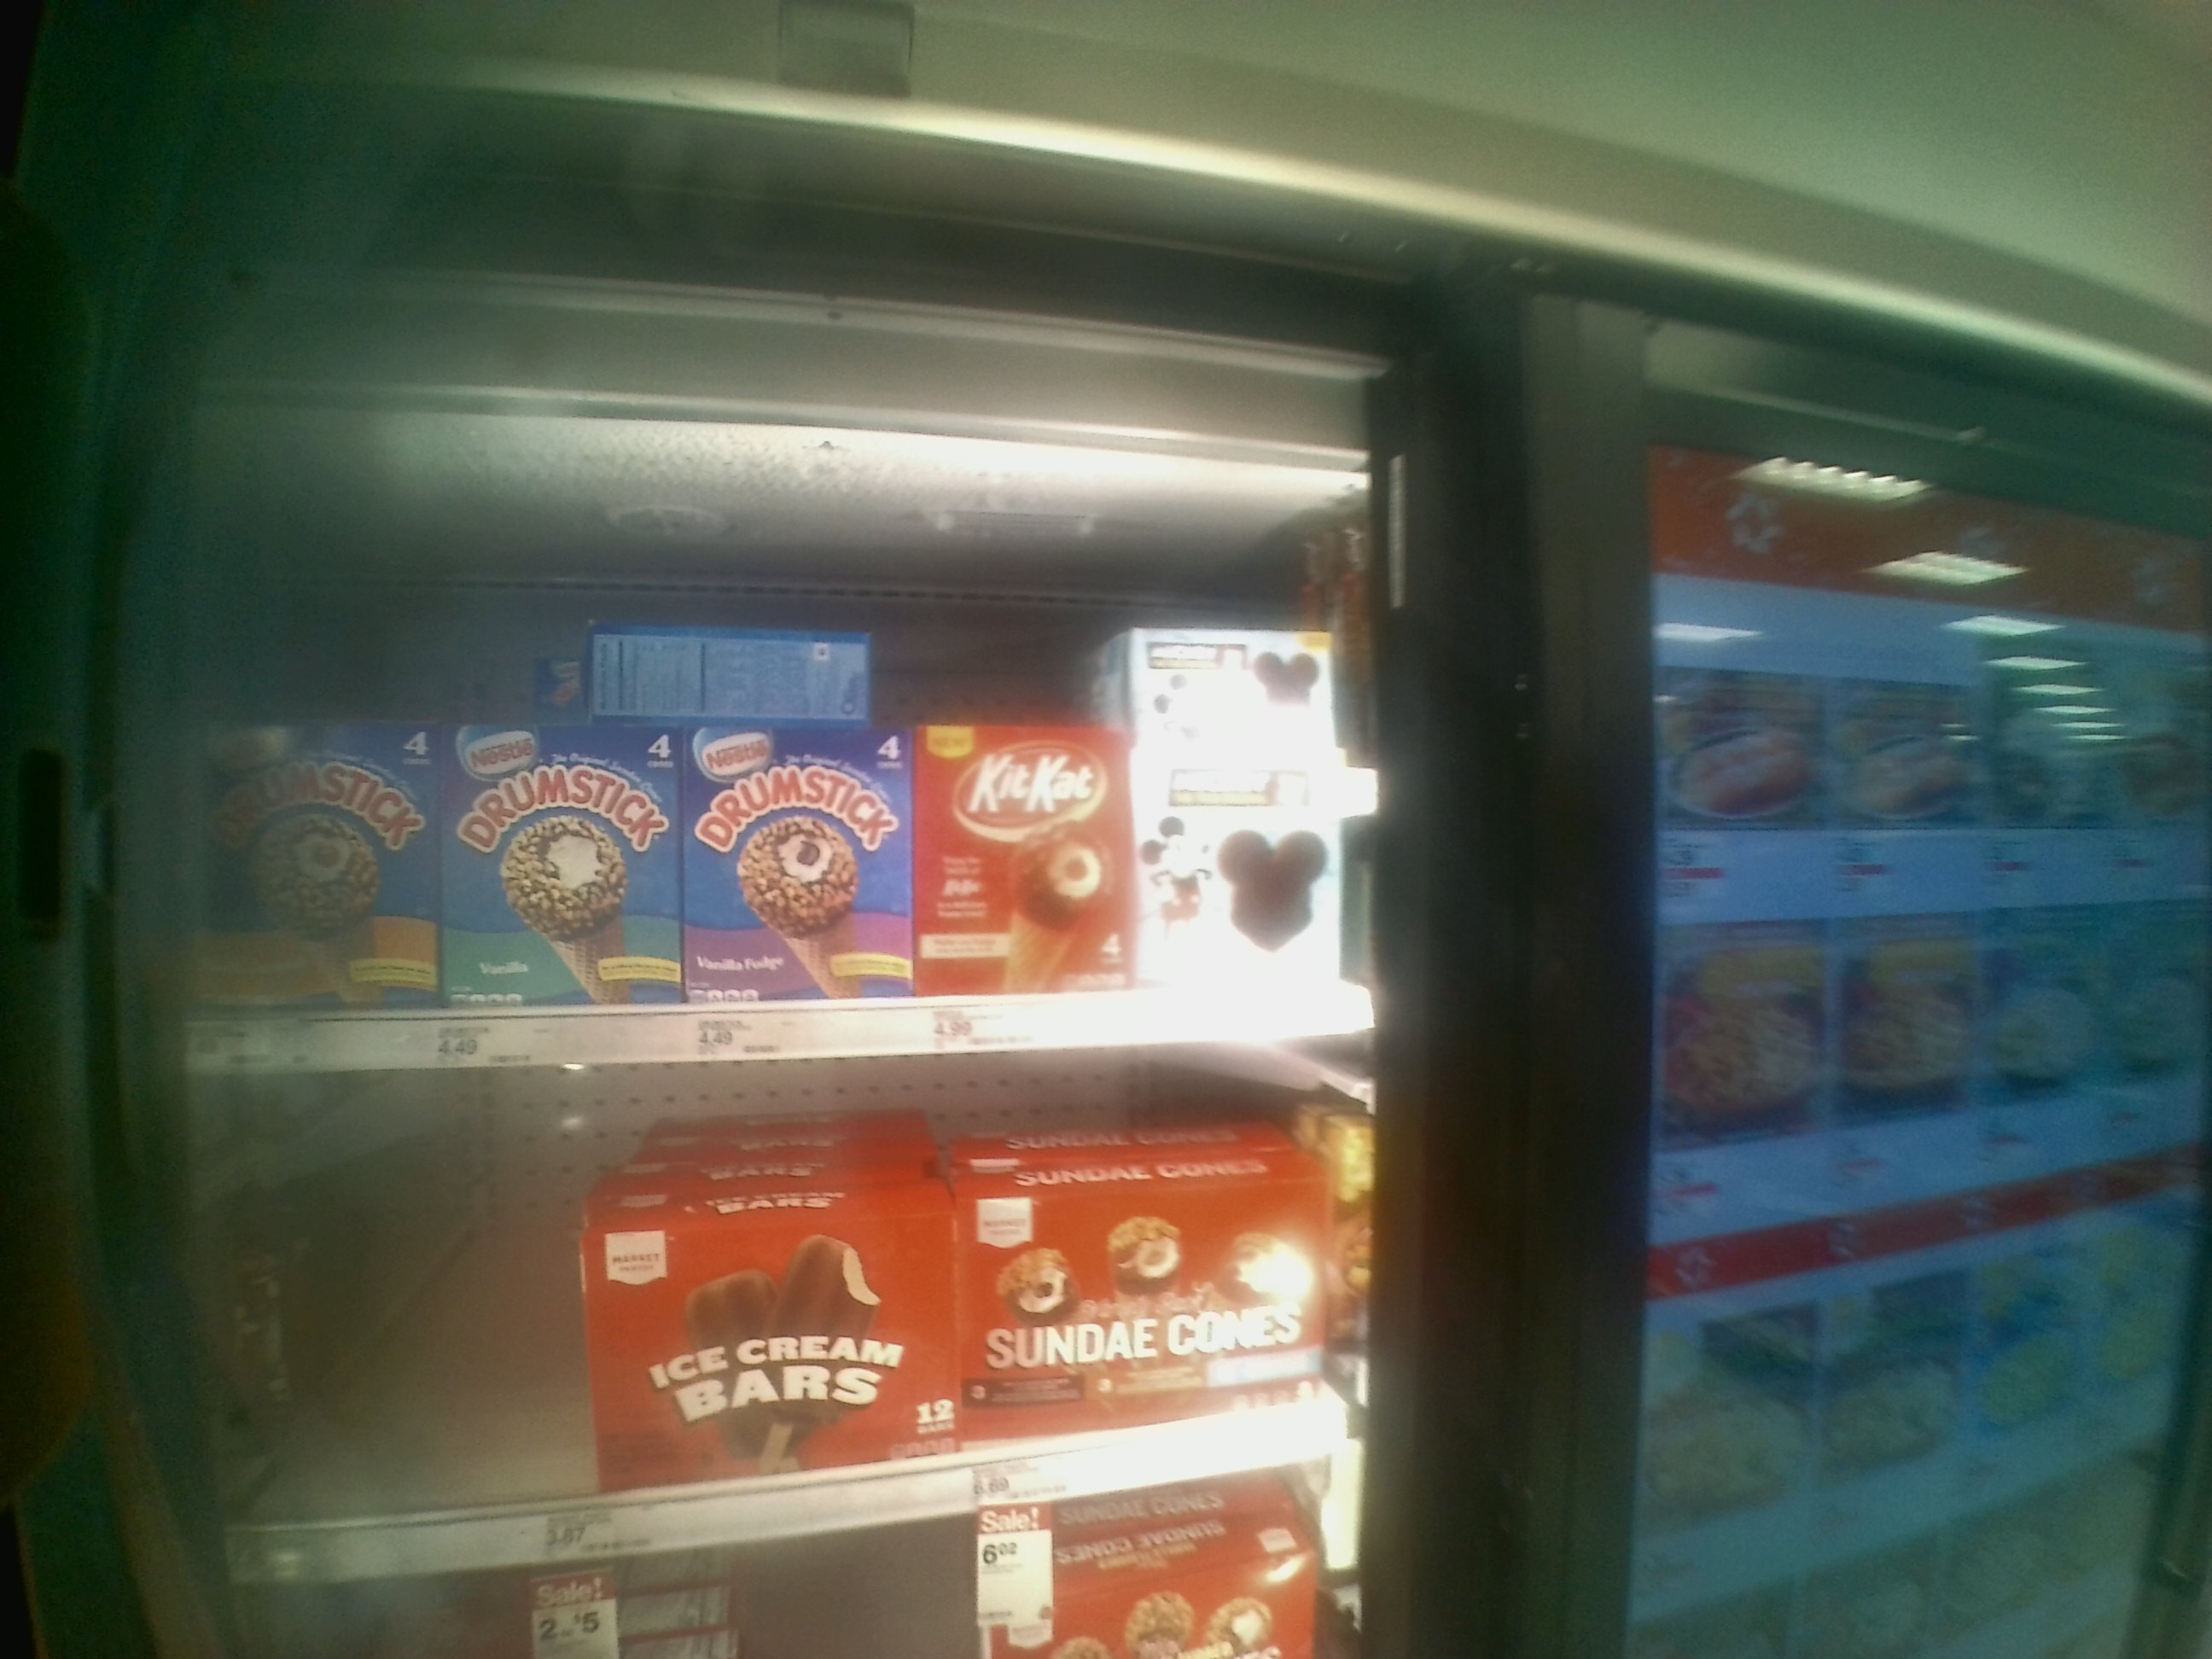frozen-food-shelf: (172, 591, 1374, 1075)
